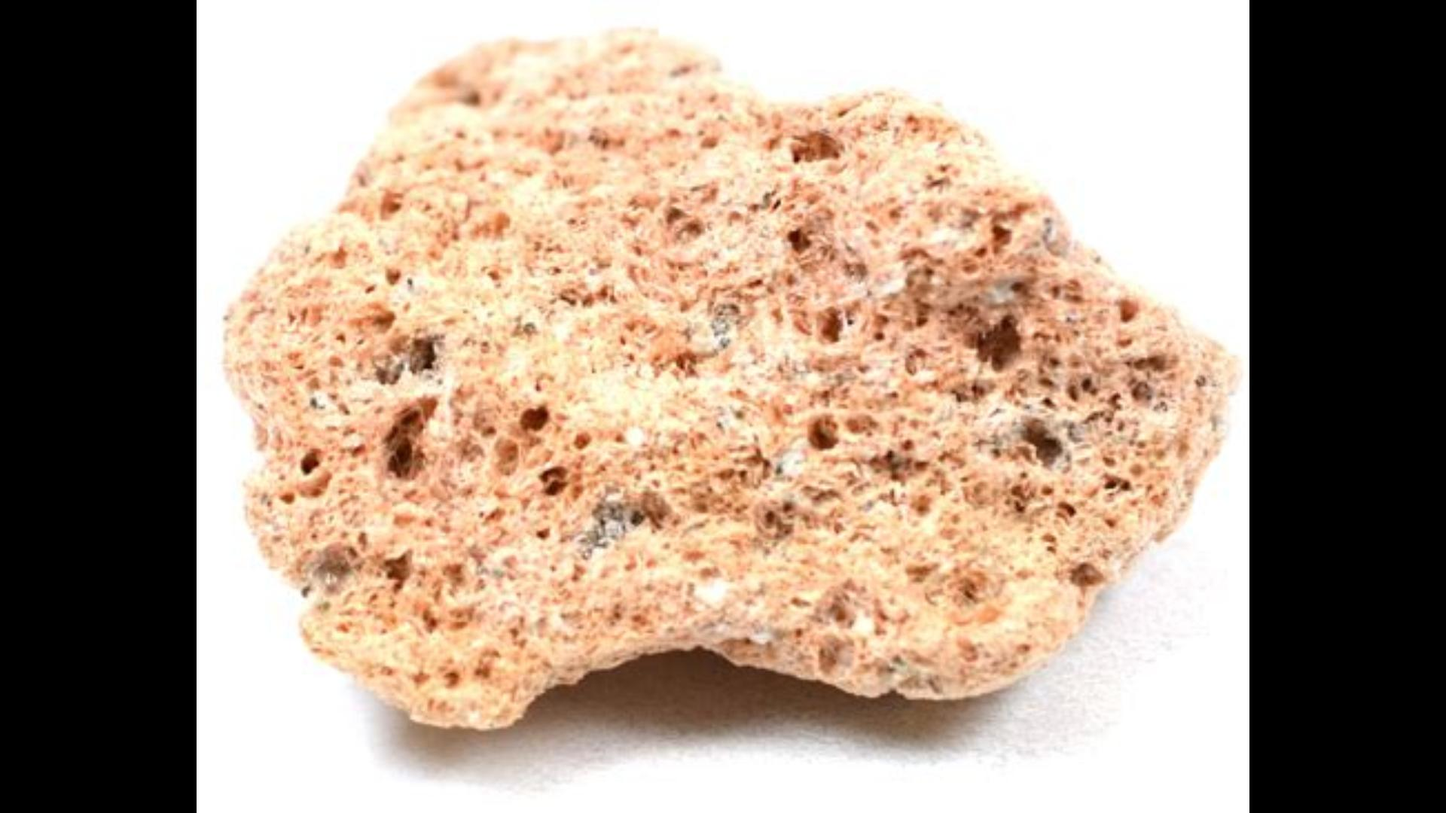rock: (225, 36, 1232, 724)
